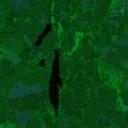alloviz: (47, 47, 63, 116), (33, 22, 53, 48), (37, 58, 46, 67)
